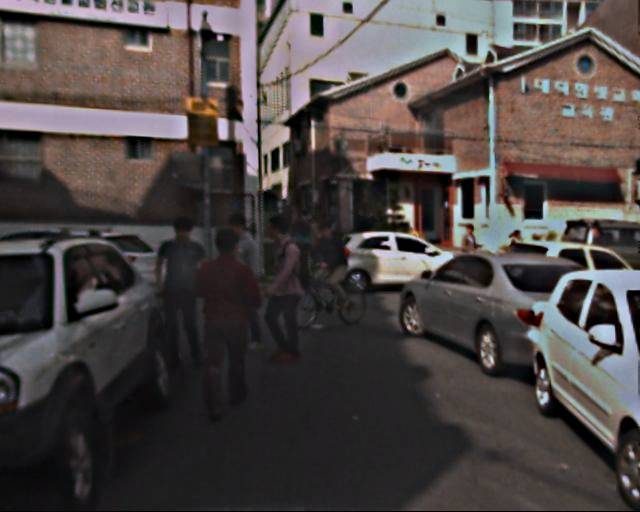person: (187, 228, 261, 412), (153, 219, 216, 370), (254, 217, 315, 366), (211, 216, 271, 356), (311, 222, 347, 311), (586, 224, 613, 289), (458, 224, 485, 283)
